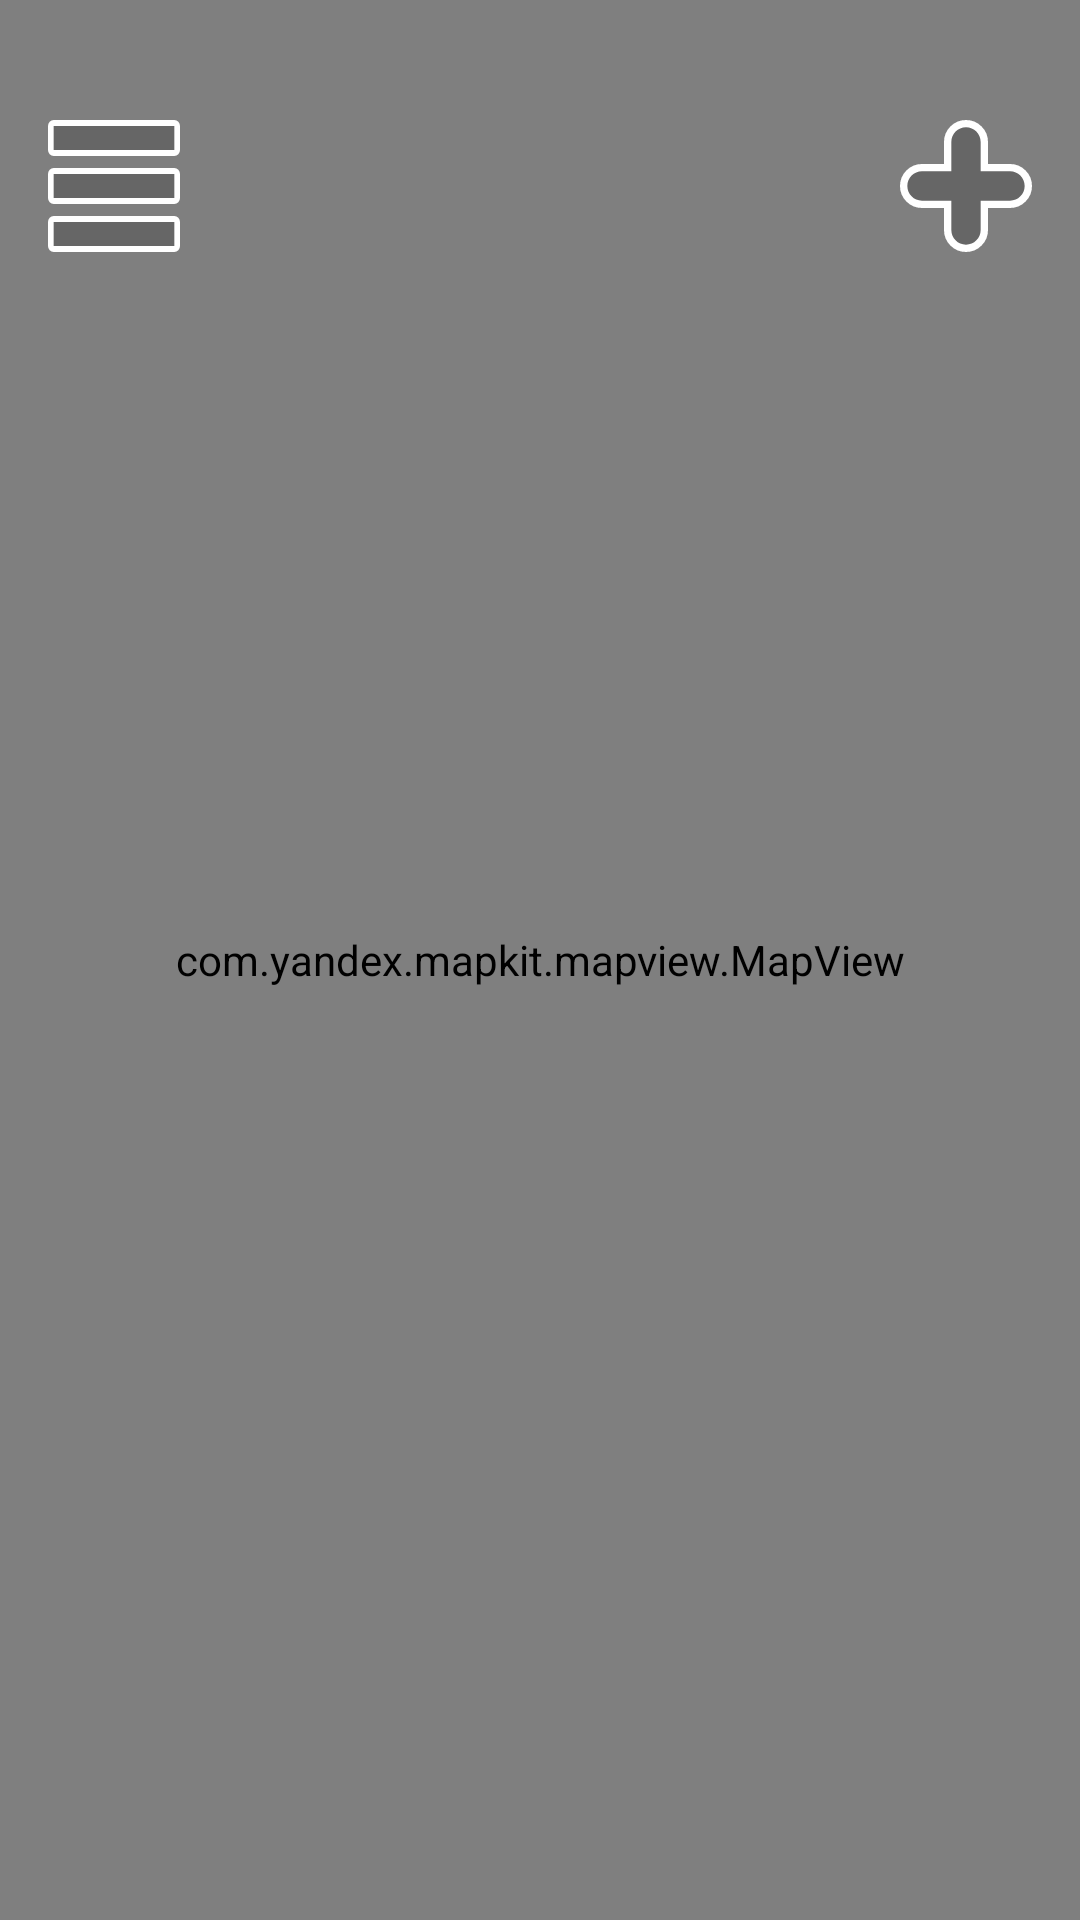

Screen size 1080x1920. Icon name, then its center in pixels as [x,y]:
Create Event: [966,186]
menu: [114,186]
